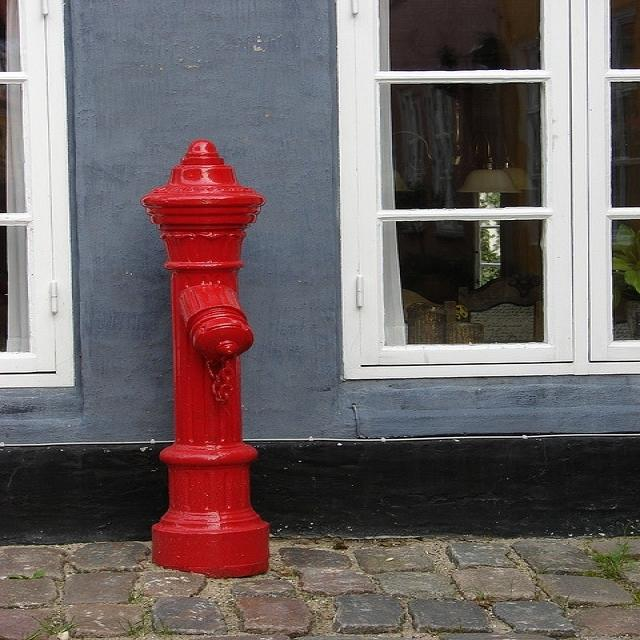fire_hydrant: (116, 136, 349, 618)
